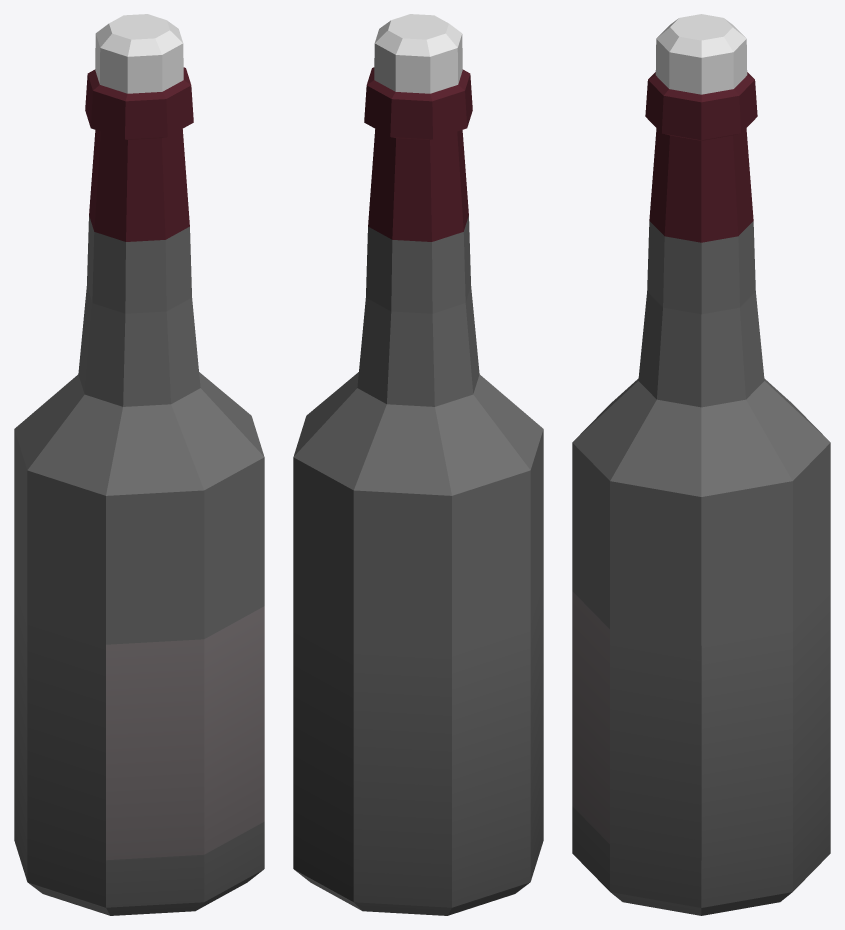
Rendered from pq_bouteille_vin.glb.
3 views of the same model, side by side, from view 1: azimuth 30°, elevation 25°; view 2: azimuth 150°, elevation 25°; view 3: azimuth 270°, elevation 25° (orthographic).
Parts seen in each view (by area): view 1: Bottle2; view 2: Bottle2; view 3: Bottle2.
Boxes of the visible parts, x1,y1,x2,y2 form: Bottle2: (14,14,264,915); Bottle2: (293,14,543,915); Bottle2: (572,14,830,915).
Bounding box in the file's own units: 0.0858 × 0.3084 × 0.0858.
